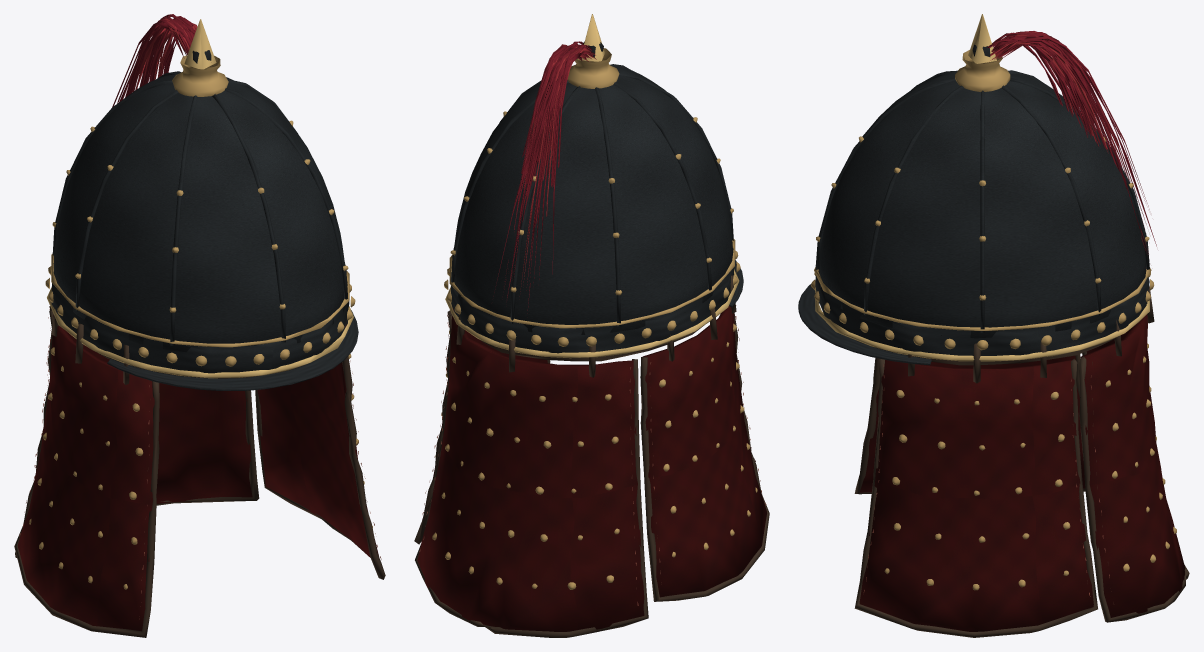
Rendered from helmet_joseon_dujeong_lod1.glb.
3 renders of one model, left to right at view 1: azimuth 30°, elevation 25°; view 2: azimuth 150°, elevation 25°; view 3: azimuth 270°, elevation 25°, orthographic. The views are drawn at different scales.
Parts seen in each view (by area): view 1: Helmet shell, three separate cloth panels, rivets and horseh; view 2: Helmet shell, three separate cloth panels, rivets and horseh; view 3: Helmet shell, three separate cloth panels, rivets and horseh.
Part boxes in pixels (x1,y1,x2,y2): Helmet shell, three separate cloth panels, rivets and horseh: (14,14,385,637); Helmet shell, three separate cloth panels, rivets and horseh: (414,14,769,637); Helmet shell, three separate cloth panels, rivets and horseh: (798,14,1189,637).
Bounding box in the file's own units: 0.2827 × 0.503 × 0.3156.
8 materials, 2 textured.
